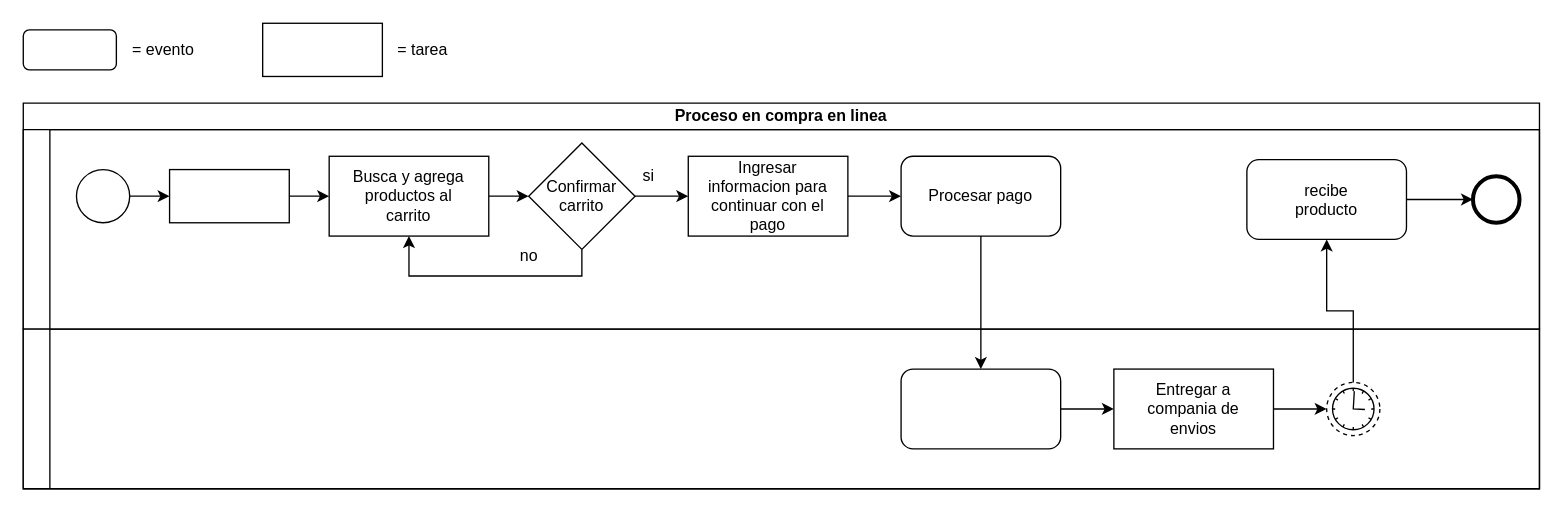
The diagram is 1563 pixels wide and 512 high, and some of its shapes have lost their labels. Here are the shapes that lost their labels. From the top down, the box of each, then its label:
(168, 168, 289, 223): Navegar a sitio web
(22, 128, 1539, 329): Cliente
(22, 328, 1539, 489): Almacen
(900, 368, 1061, 449): Pedido notificado
